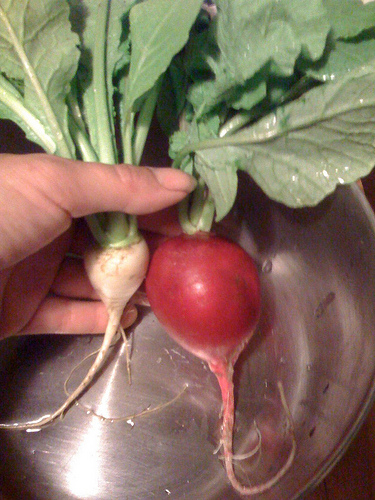turnip: (143, 232, 296, 497), (3, 238, 150, 436)
